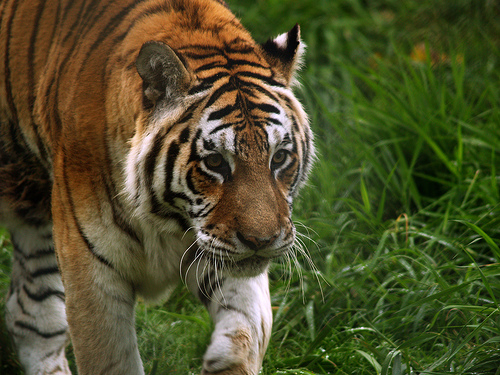Tigre: (10, 2, 332, 375)
